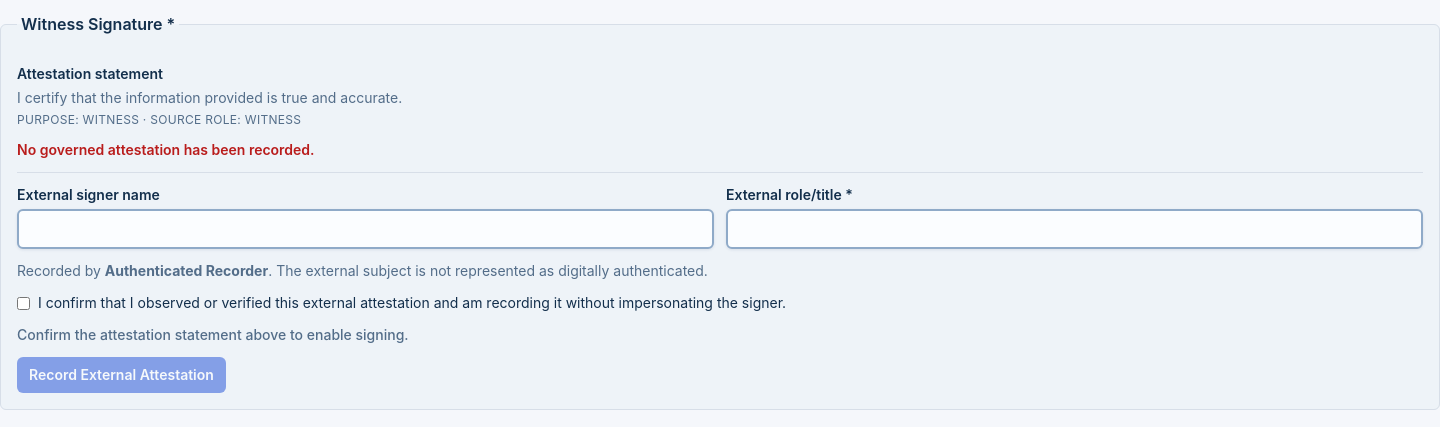
Test: GovernedAttestationControl › requires the external role when the template requires it
The image size is (1440, 427).
Type "External Witness" into the field labelled "External signer name" at (366, 229), box [17, 209, 714, 249]
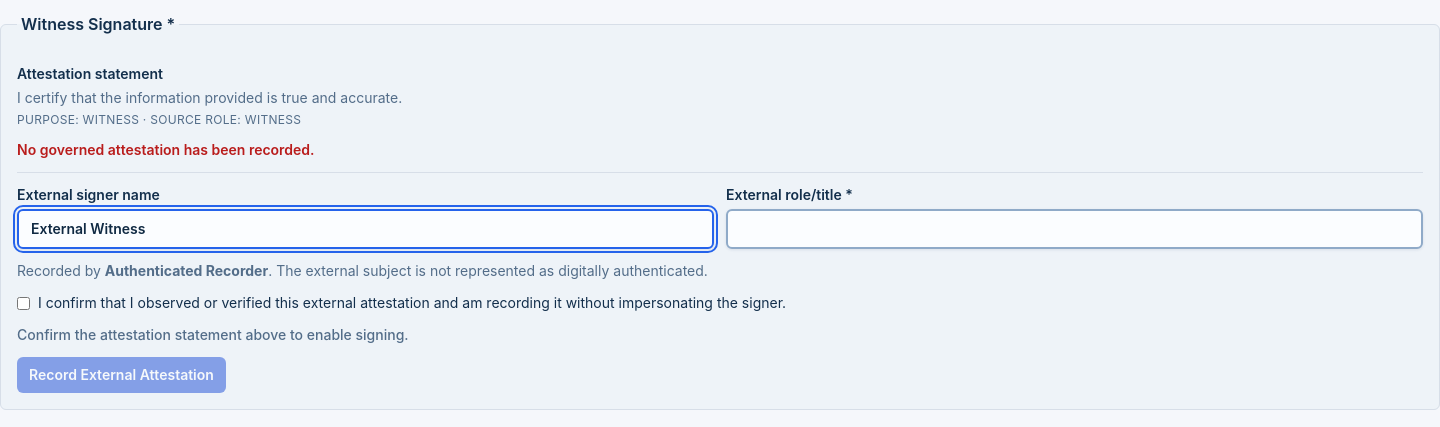
Click the checkbox at (24, 304), box [17, 297, 30, 310]
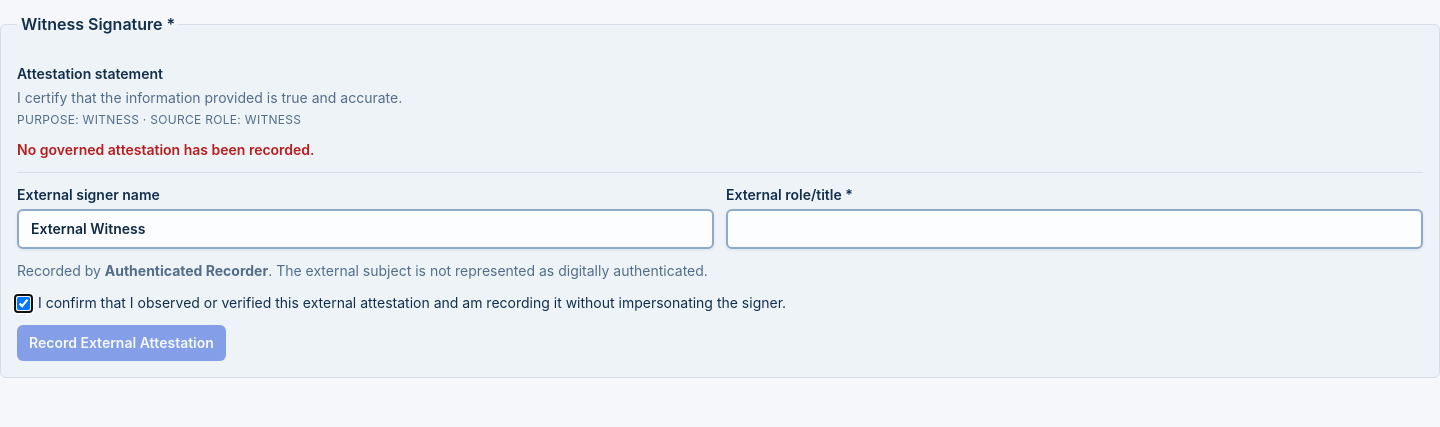
Expected: the button "Record External Attestation" is disabled, [17, 325, 226, 361]
Type "Witness" into the field labelled "External role/title *" at (1074, 229), box [726, 209, 1423, 249]
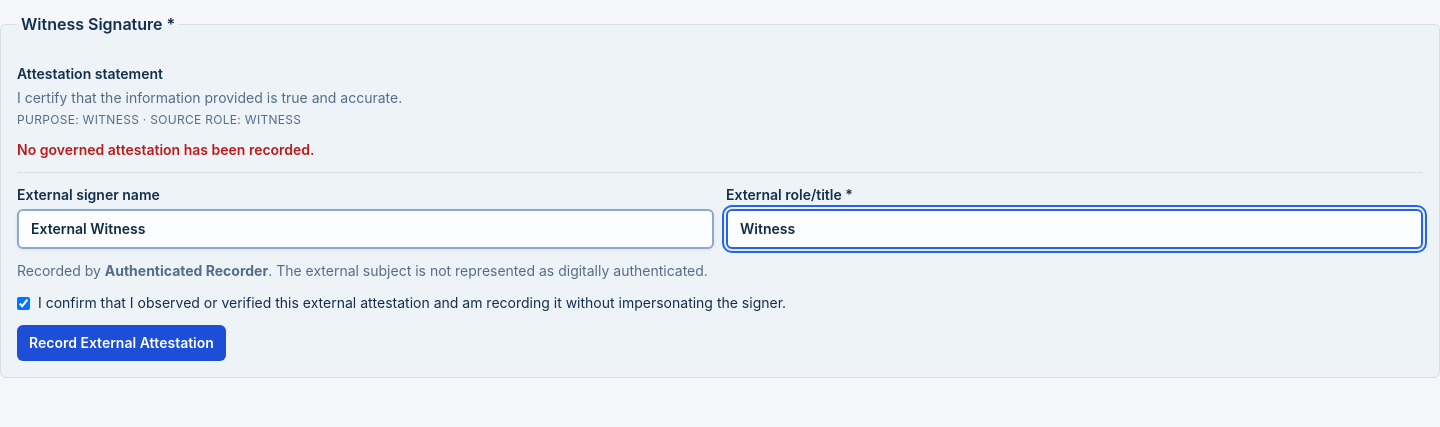
Expected: the button "Record External Attestation" is enabled, [17, 325, 226, 361]
